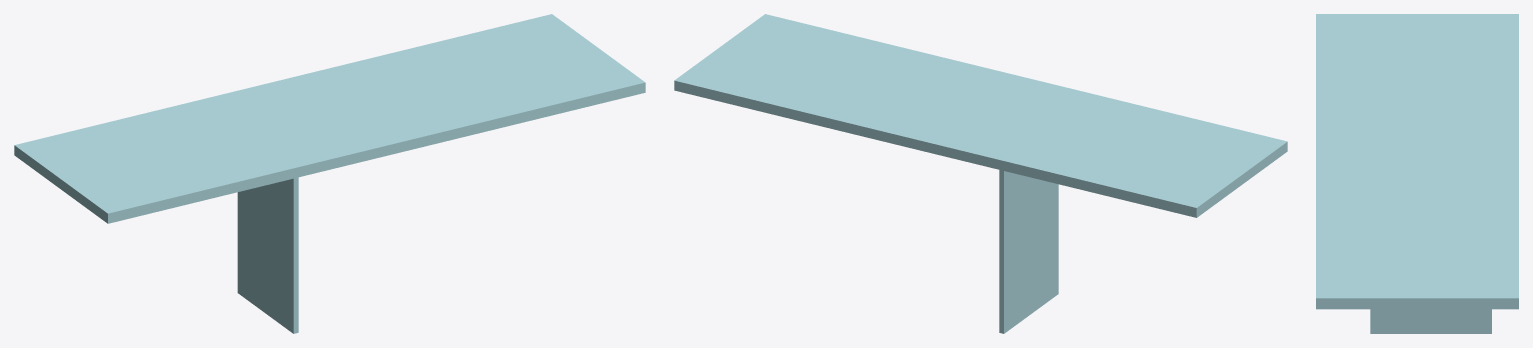
File: 62921215-min.dae
3 views of the same model, side by side, from view 1: azimuth 30°, elevation 25°; view 2: azimuth 150°, elevation 25°; view 3: azimuth 270°, elevation 25° (orthographic). The views are drawn at different scales.
Visible parts, largest first — view 1: {B20BC33D-3791-40c1-B4E7-E0A3A815E0FC}_Node, {EEF253AB-8C07-4008-AE13-3AAEA2E42C23}_Node; view 2: {B20BC33D-3791-40c1-B4E7-E0A3A815E0FC}_Node, {EEF253AB-8C07-4008-AE13-3AAEA2E42C23}_Node; view 3: {B20BC33D-3791-40c1-B4E7-E0A3A815E0FC}_Node, {EEF253AB-8C07-4008-AE13-3AAEA2E42C23}_Node.
Boxes of the visible parts, x1=… form: {B20BC33D-3791-40c1-B4E7-E0A3A815E0FC}_Node: x1=14, y1=14, x2=645, y2=223; {EEF253AB-8C07-4008-AE13-3AAEA2E42C23}_Node: x1=237, y1=177, x2=298, y2=333; {B20BC33D-3791-40c1-B4E7-E0A3A815E0FC}_Node: x1=674, y1=14, x2=1287, y2=217; {EEF253AB-8C07-4008-AE13-3AAEA2E42C23}_Node: x1=999, y1=170, x2=1058, y2=333; {B20BC33D-3791-40c1-B4E7-E0A3A815E0FC}_Node: x1=1316, y1=14, x2=1518, y2=309; {EEF253AB-8C07-4008-AE13-3AAEA2E42C23}_Node: x1=1370, y1=309, x2=1491, y2=333.
Bounding box in the file's own units: 2.09 × 0.706 × 0.63.
Materials: 2 (2 with a texture image).
